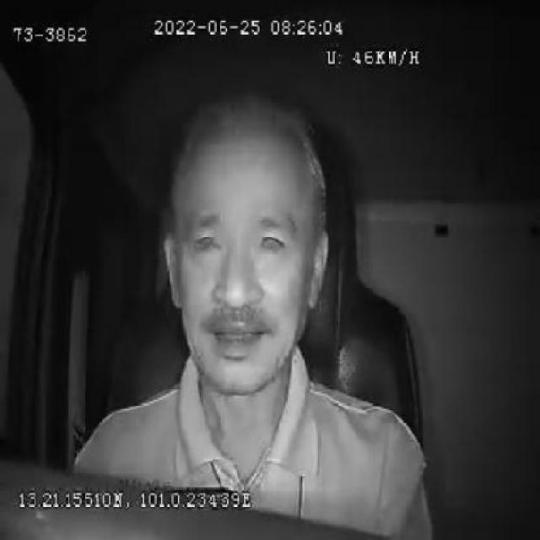phone: (110, 469, 246, 509)
